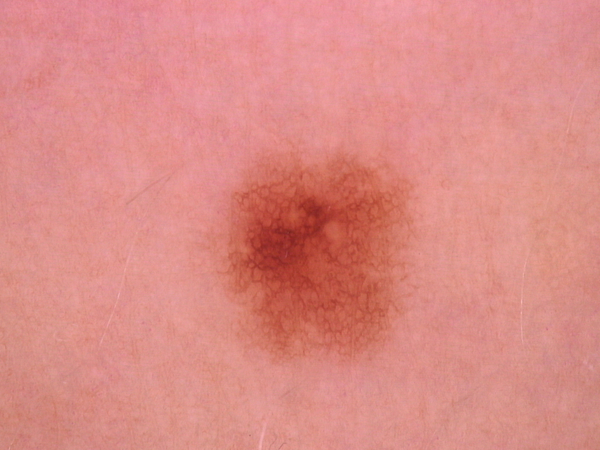Detected Lesion: (217, 148, 406, 360)
